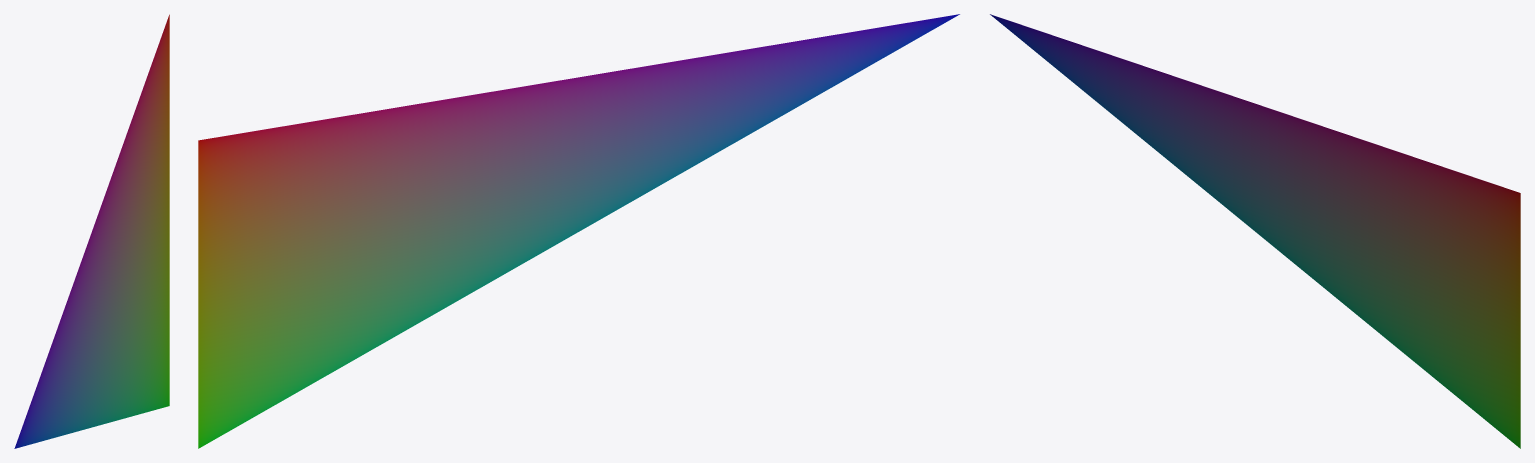
Rendered from face_cleaning_conquest_53.obj.
3 views of the same model, side by side, from view 1: azimuth 30°, elevation 25°; view 2: azimuth 150°, elevation 25°; view 3: azimuth 270°, elevation 25° (orthographic). The views are drawn at different scales.
Bounding box in the file's own units: 0.9272 × 0.618 × 1.16.
